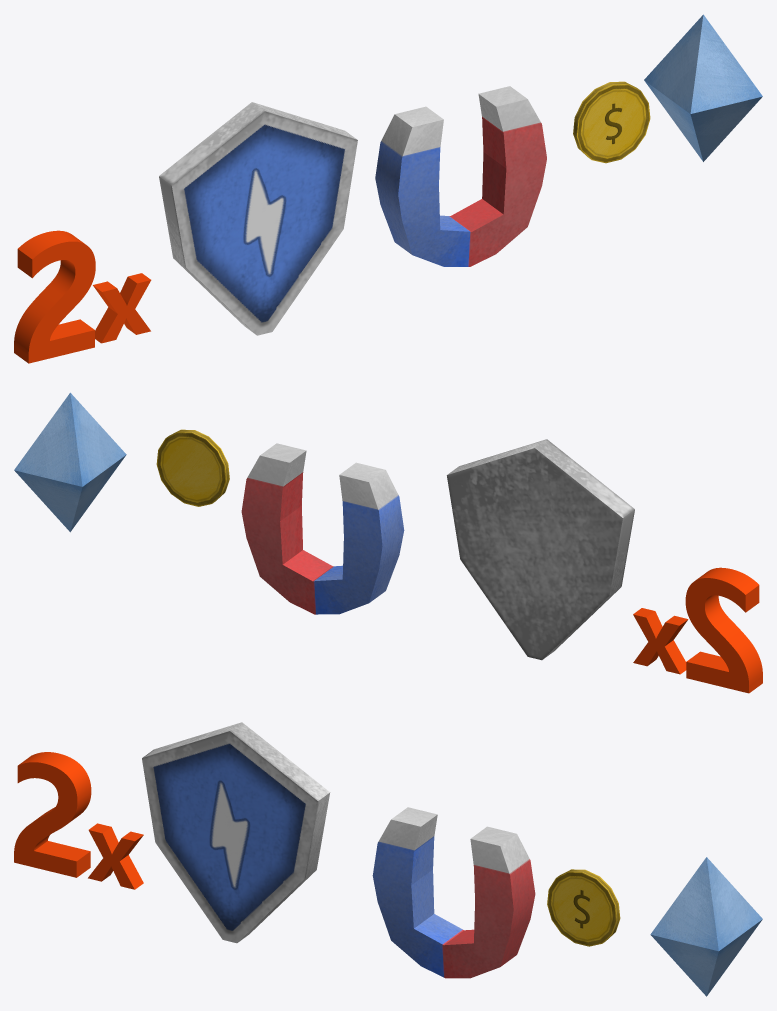
The model's file is Coletaveis.FBX.
The picture shows the model from 3 angles, top to bottom: view 1: azimuth 30°, elevation 25°; view 2: azimuth 150°, elevation 25°; view 3: azimuth 330°, elevation 25°; orthographic projection. The views are drawn at different scales.
Parts seen in each view (by area): view 1: Box003, Box002, Text001, Cristal, Cylinder001; view 2: Box003, Box002, Text001, Cristal, Cylinder001; view 3: Box003, Box002, Text001, Cristal, Cylinder001.
Boxes of the visible parts, bbox=[...] form: Box003: bbox=[159, 102, 357, 335]; Box002: bbox=[375, 86, 546, 266]; Text001: bbox=[14, 230, 151, 363]; Cristal: bbox=[644, 14, 762, 161]; Cylinder001: bbox=[573, 81, 650, 163]; Box003: bbox=[446, 439, 634, 660]; Box002: bbox=[241, 443, 404, 614]; Text001: bbox=[633, 567, 762, 693]; Cristal: bbox=[14, 392, 126, 532]; Cylinder001: bbox=[156, 429, 229, 506]; Box003: bbox=[142, 722, 330, 943]; Box002: bbox=[372, 807, 535, 978]; Text001: bbox=[14, 752, 143, 889]; Cristal: bbox=[650, 857, 762, 996]; Cylinder001: bbox=[547, 869, 620, 946].
Bounding box in the file's own units: 532 × 153 × 69.62.
2 materials, 1 textured.
